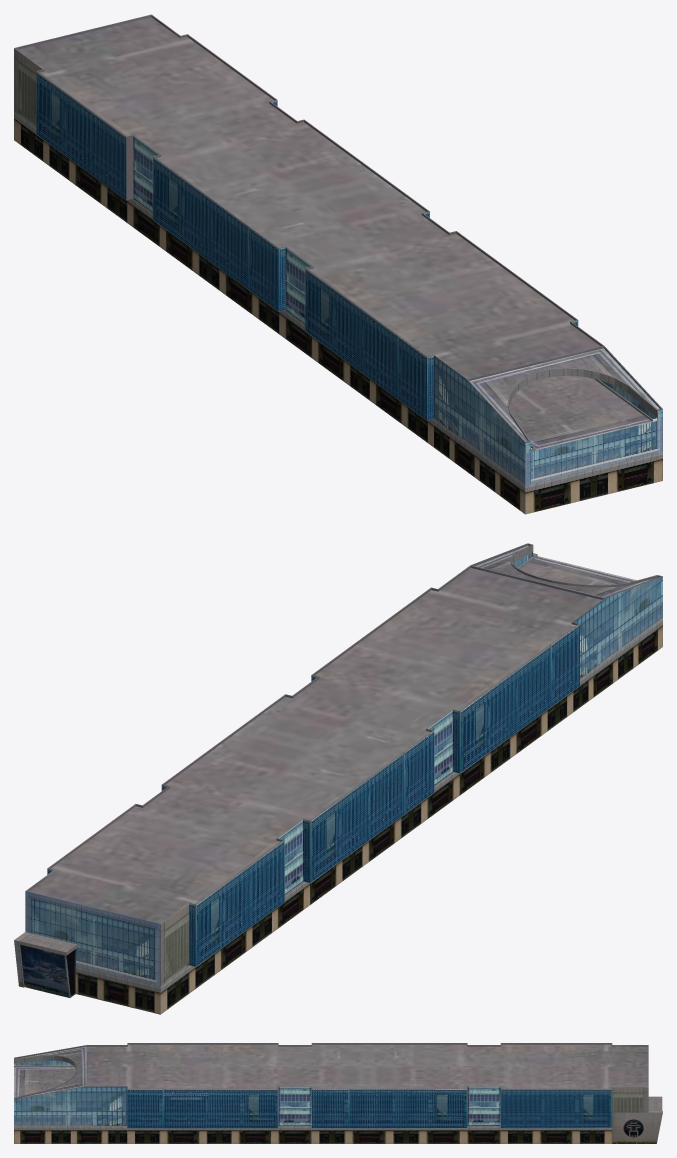
The picture shows the model from 3 angles, top to bottom: view 1: azimuth 30°, elevation 25°; view 2: azimuth 150°, elevation 25°; view 3: azimuth 270°, elevation 25°; orthographic projection. The views are drawn at different scales.
Parts seen in each view (by area): view 1: HN632_NhaGaCatLinh; view 2: HN632_NhaGaCatLinh; view 3: HN632_NhaGaCatLinh.
Boxes of the visible parts, <box> form: HN632_NhaGaCatLinh: <box>14,14,662,514</box>; HN632_NhaGaCatLinh: <box>14,543,662,1014</box>; HN632_NhaGaCatLinh: <box>14,1043,662,1143</box>.
Size of the model in its own units: 33 by 19.2 by 197.
1 material, 1 textured.
